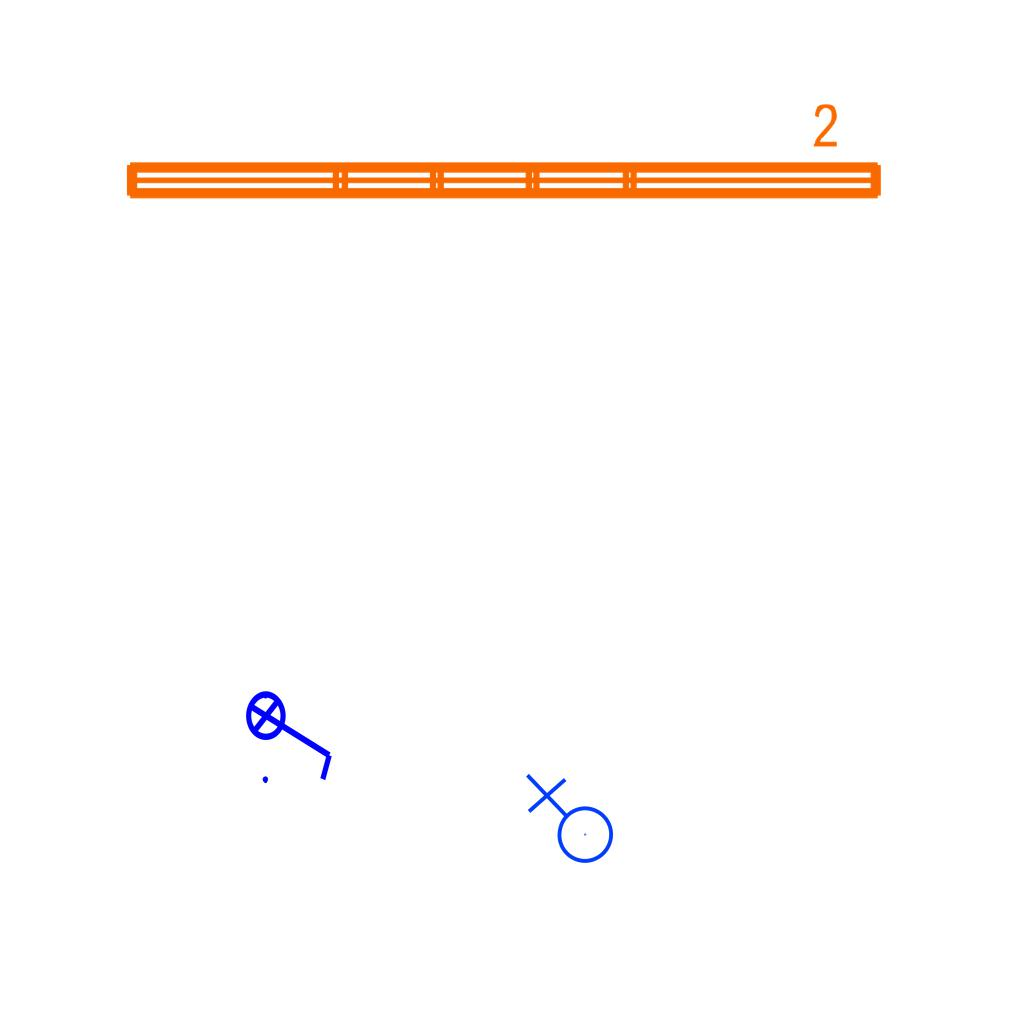Ambulanz_Pendelleuchte_LED: (116, 99, 890, 211)
Ausschalter_beleuchtet: (244, 677, 340, 789)
Elektroanschluss_allgemein_230V_Geraeteanschlussdose_230V: (521, 773, 615, 872)
